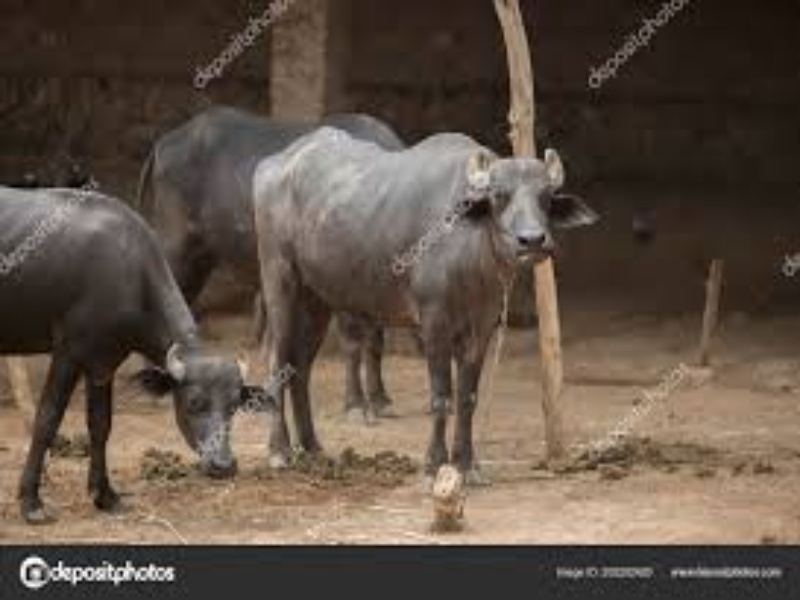buffalo: (14, 111, 561, 489)
